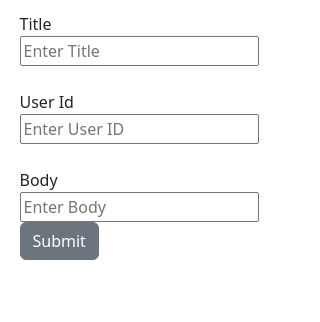
Test case: Test related to the form component › Not entering a userId dislays an error message
This screenshot has width=320, height=322.
Type "12345" into the field with test id "title" at (139, 51), box 20,36 -> 258,66
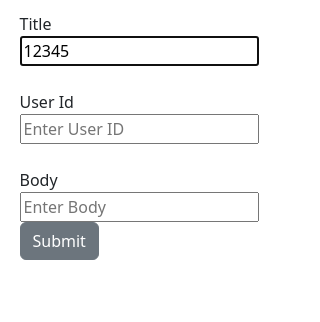
Click the button with test id "Submit" at (59, 241), box 20,222 -> 99,260
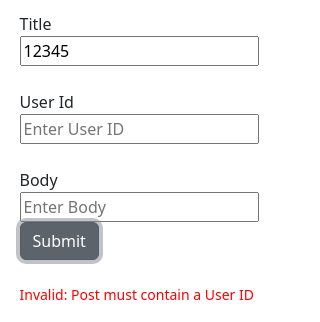
expect the text "Invalid: Post must contain a User ID" is shown: met, box 20,284 -> 258,305
